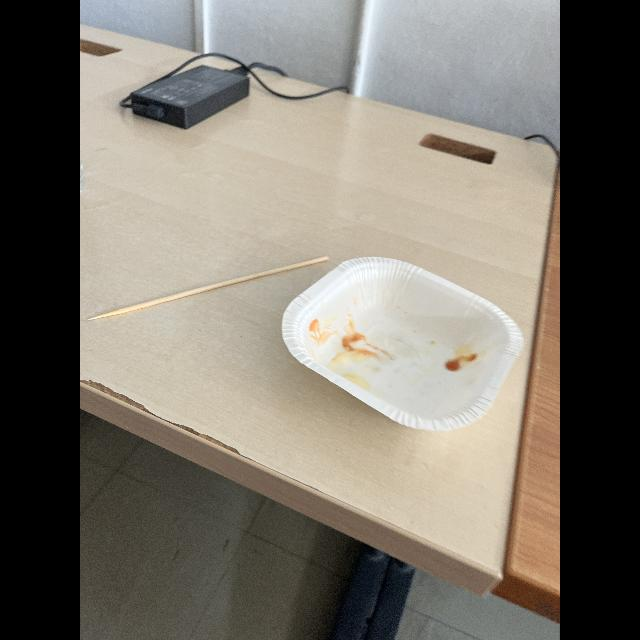cardboard_bowl: (276, 257, 528, 433)
stick: (89, 253, 338, 321)
